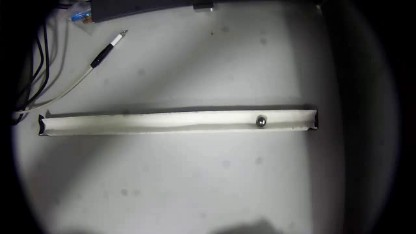gangzhu: (254, 114, 268, 127)
